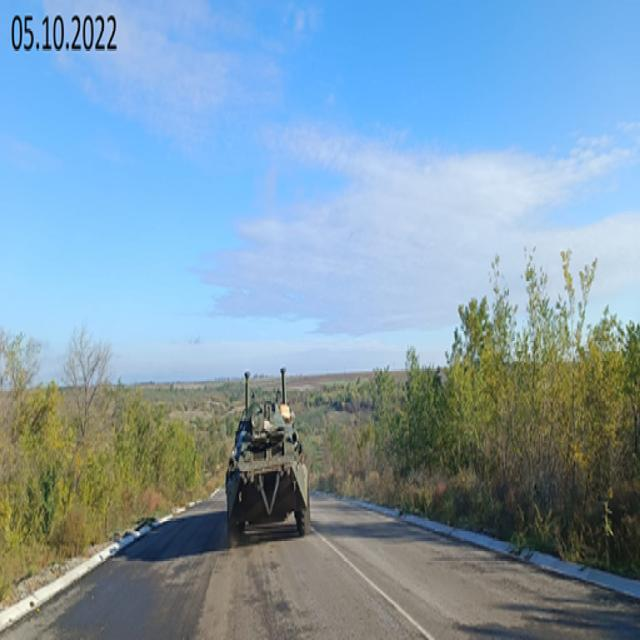APC-IFV: (215, 362, 317, 540)
